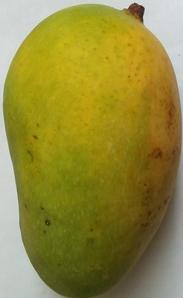PartiallyRipe: (1, 0, 183, 298)
